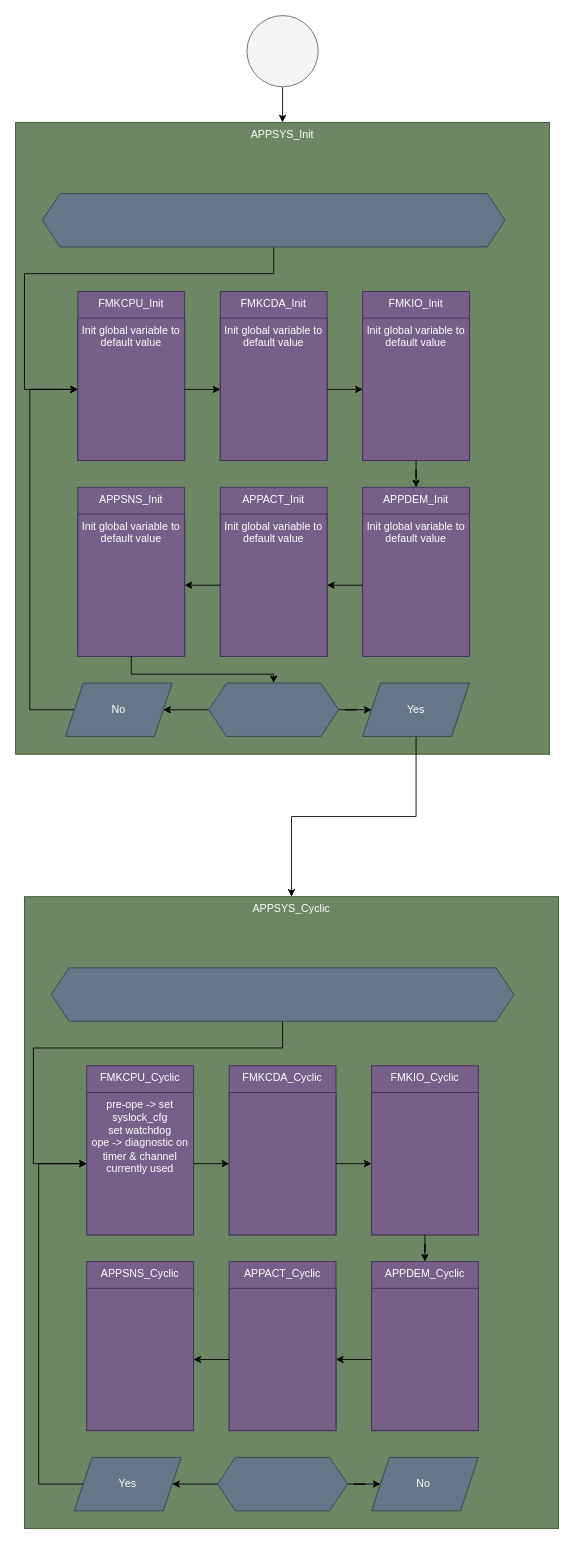
Some shapes in this 574 by 1544 pixel diagram are drawn without their labels. Each missing label, with the centre of its shape:
Diagnostic on signal (excpet IO dig): [424,1163]
Init done ?: [273,709]
loop "for" make cyclic of all module: [282,994]
loop while for Init all module exit -> only if all init are made: [273,220]
ope-> diagnostic on adc & dac: [282,1163]
preope -> set actuators configuration ope actuators drivers cyclic: [282,1359]
preope -> set sensors configuration (x per cycle) ope-> sensors driver cyclic: [140,1359]
preope-> set configuration ope-> check flag dem: [424,1359]
RetCode > 0: [282,1483]
Start: [282,51]
